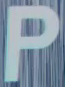Parking: (4, 2, 59, 83)
